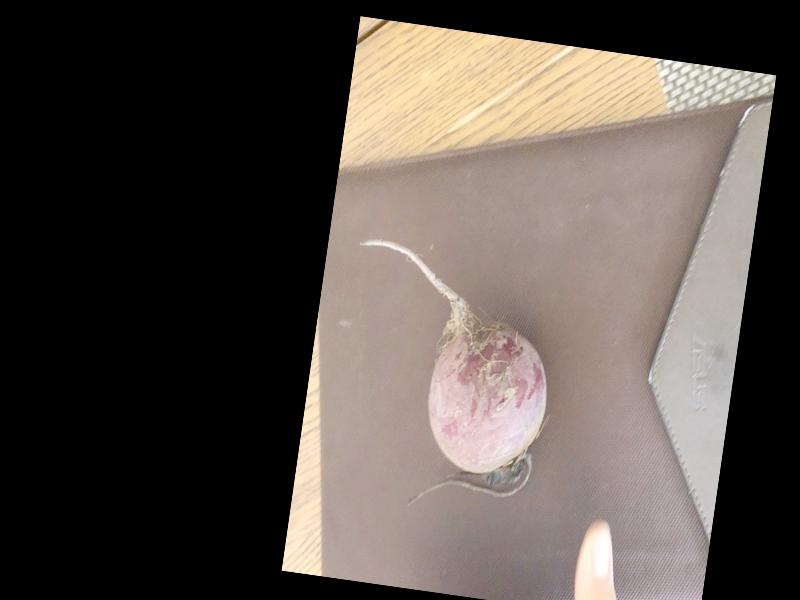Beet: (326, 236, 565, 520)
